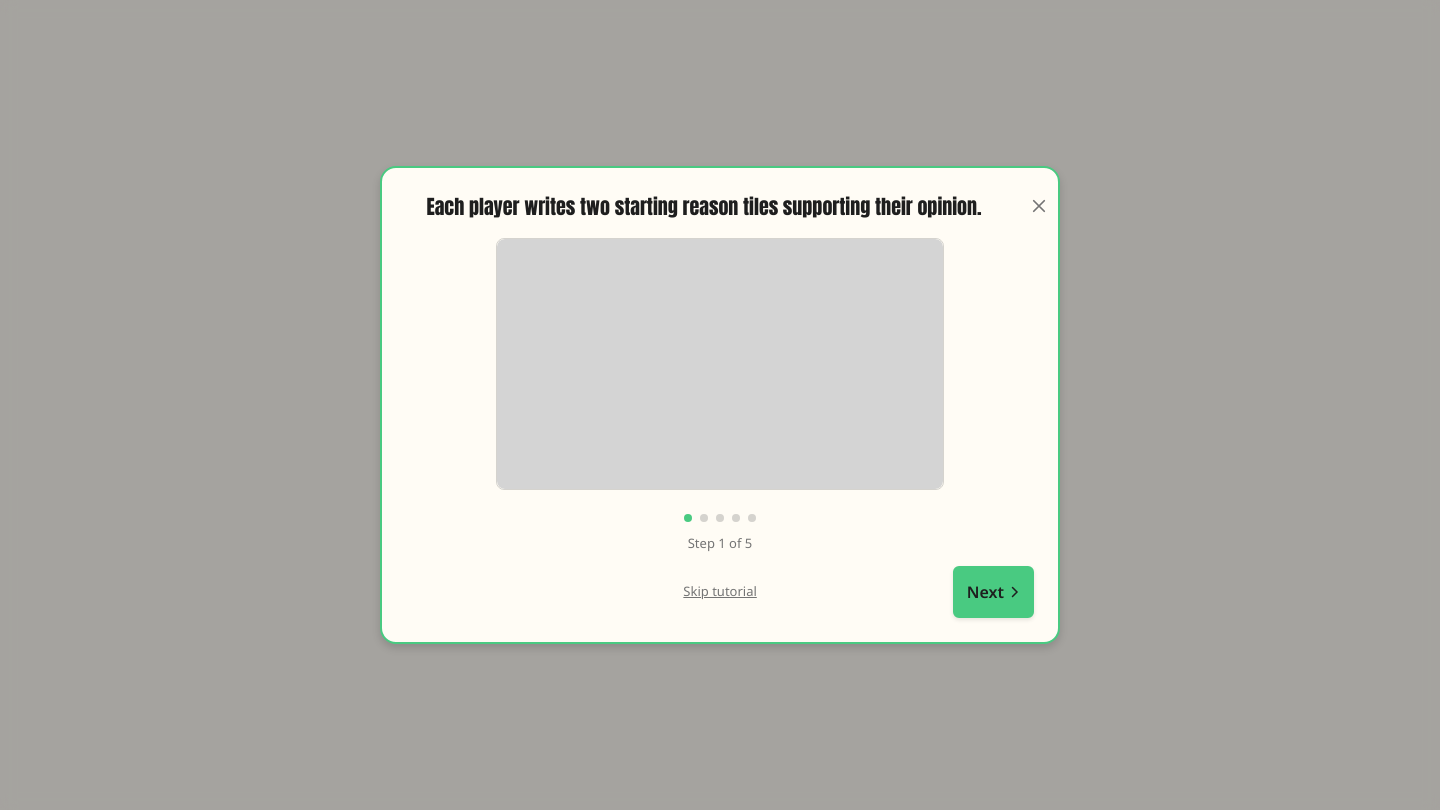
Test case: OnboardingOverlay: navigation › advances with Next and returns with Back
The width and height of the screenshot is (1440, 810).
Click the button "Next" at point(993, 592), box [953,566,1034,618]
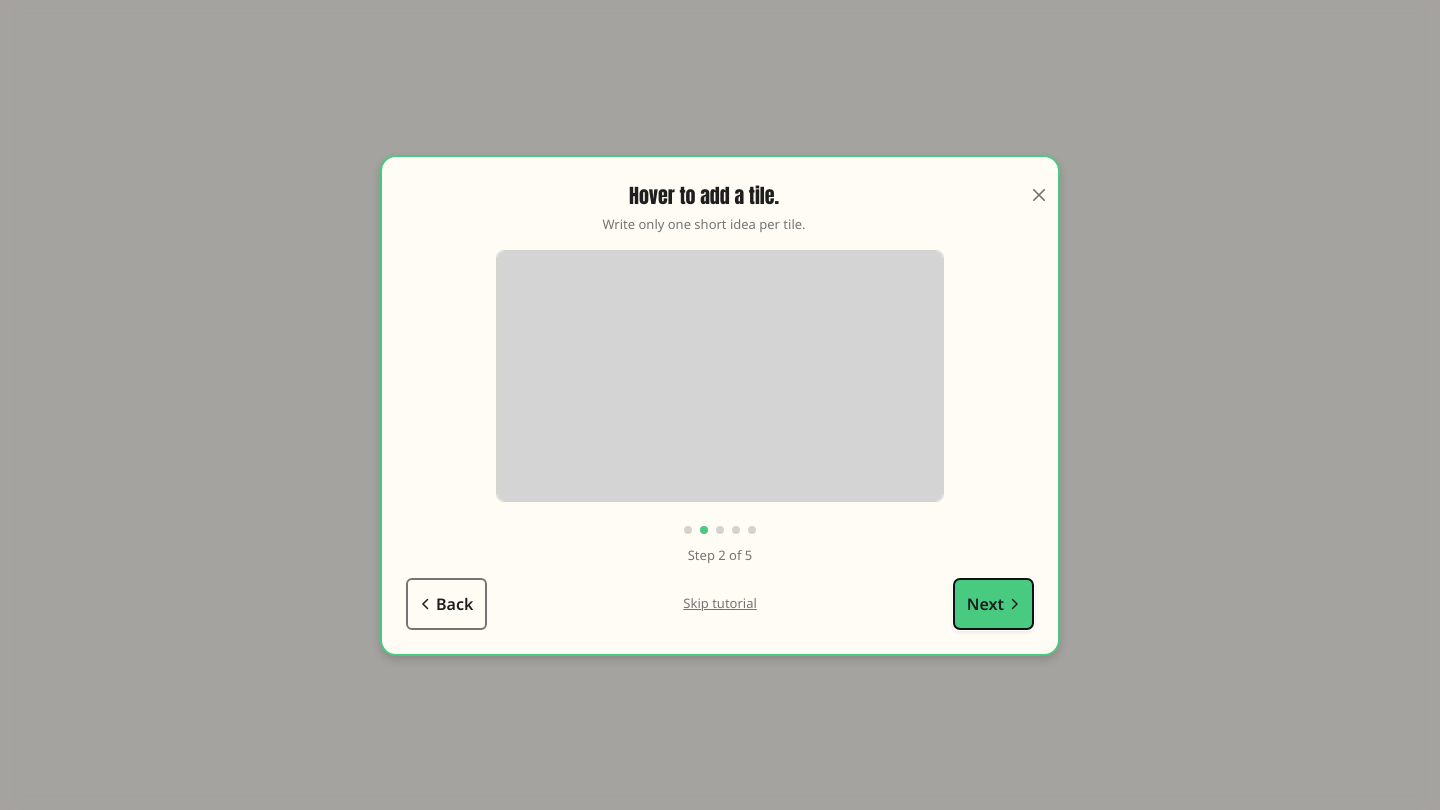
Now the text "Step 2 of 5" is shown, box [688,546,752,566]
Now the heading "Hover to add a tile." is shown, box [629,180,779,210]
Click the button "Back" at point(447, 604), box [406,578,487,630]
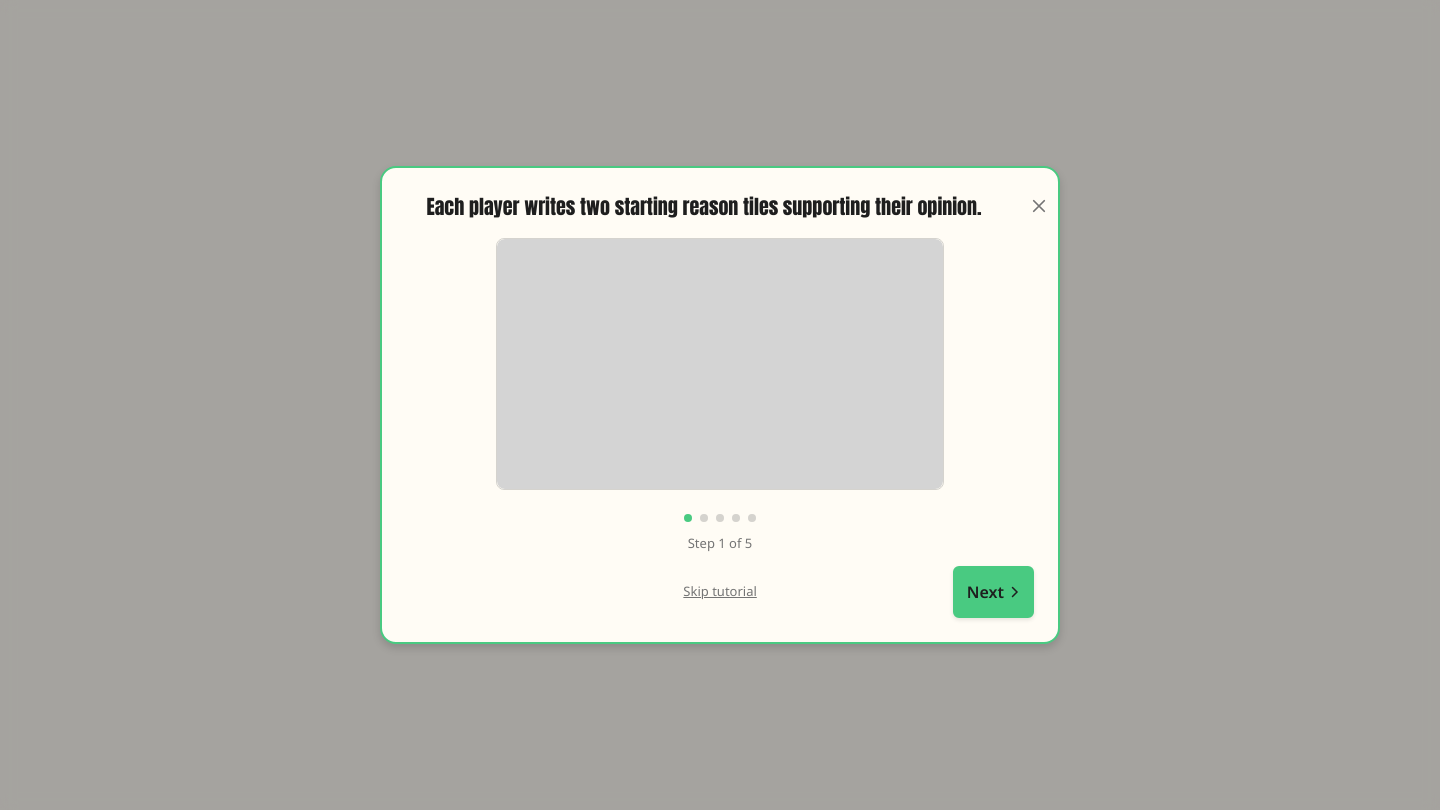
Now the text "Step 1 of 5" is shown, box [688,534,752,554]
